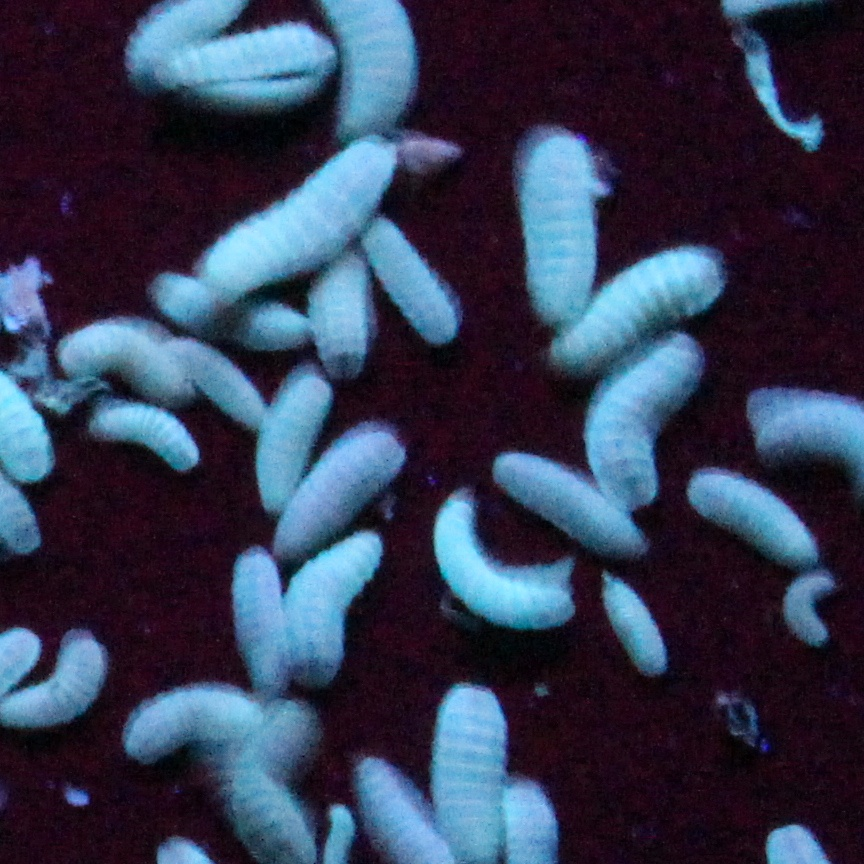larve: (210, 136, 402, 304), (426, 506, 578, 638), (558, 252, 718, 364), (581, 346, 698, 498), (489, 452, 655, 552), (518, 132, 606, 312), (263, 432, 398, 546), (352, 226, 461, 344), (684, 475, 832, 558), (162, 36, 326, 104), (63, 329, 195, 406), (298, 538, 372, 672), (223, 549, 295, 684), (258, 375, 329, 501), (9, 629, 101, 726), (89, 406, 215, 472), (135, 692, 258, 755), (595, 581, 678, 672), (786, 572, 844, 644)
